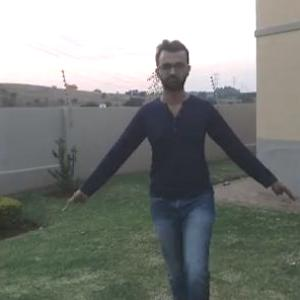land: (105, 59, 266, 274)
